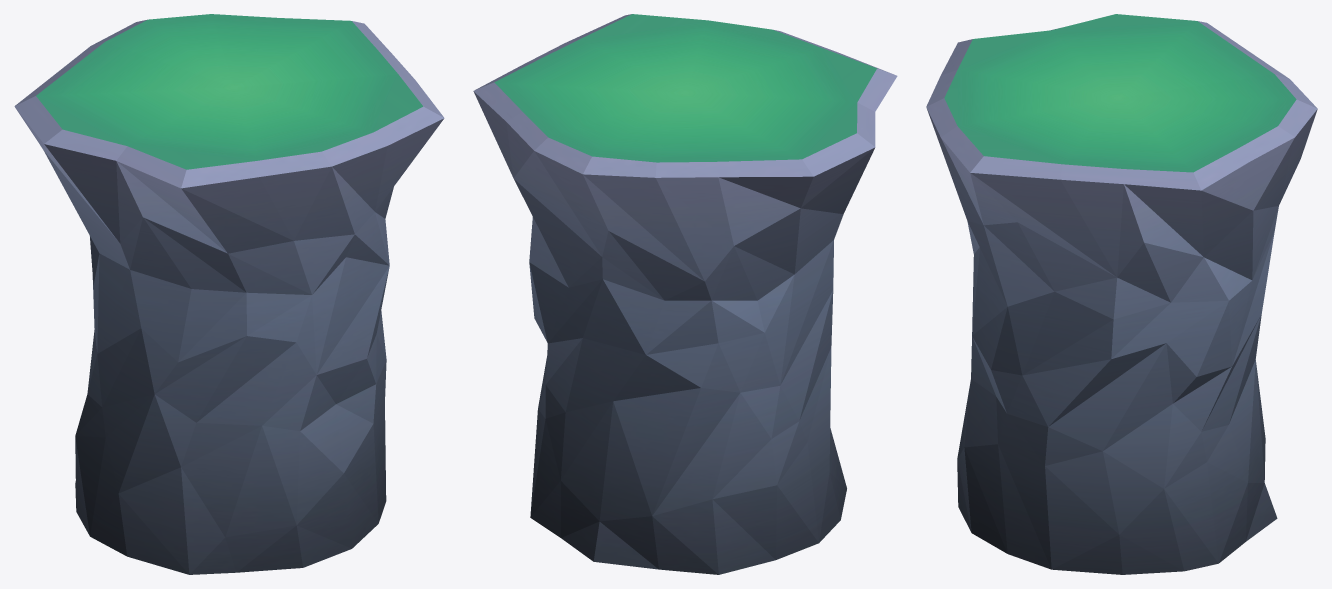
The model's file is Cliff_2.fbx.
3 renders of one model, left to right at view 1: azimuth 30°, elevation 25°; view 2: azimuth 150°, elevation 25°; view 3: azimuth 270°, elevation 25°, orthographic.
Visible parts, largest first — view 1: Cliff; view 2: Cliff; view 3: Cliff.
Boxes of the visible parts, <box> form: Cliff: <box>14,14,444,574</box>; Cliff: <box>473,14,897,574</box>; Cliff: <box>926,14,1317,574</box>.
Size of the model in its own units: 914 by 1007 by 861.
